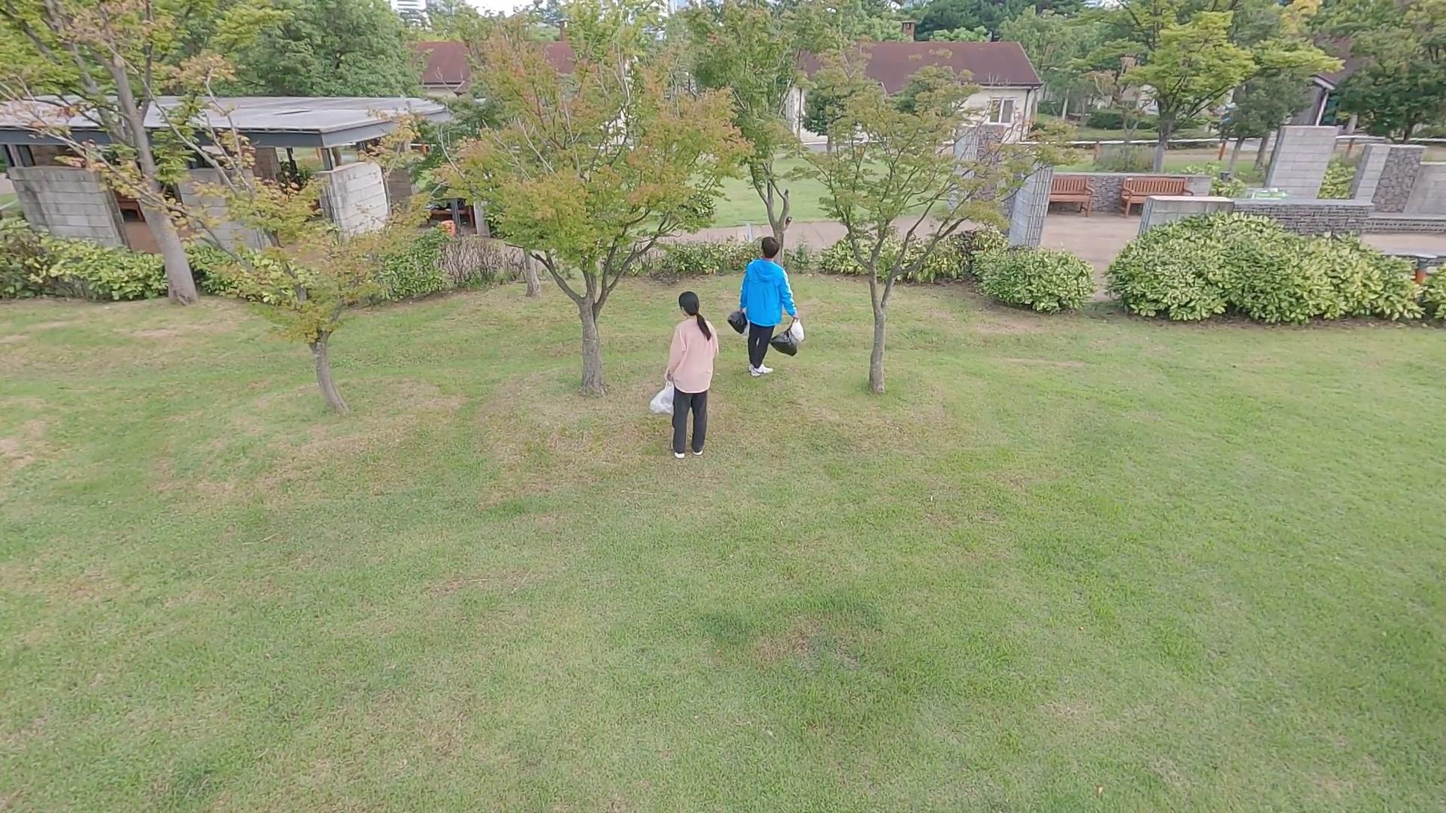person: (662, 289, 723, 463), (736, 236, 799, 379)
trash: (769, 315, 799, 357), (648, 380, 677, 416), (726, 308, 746, 332), (787, 318, 805, 343)
